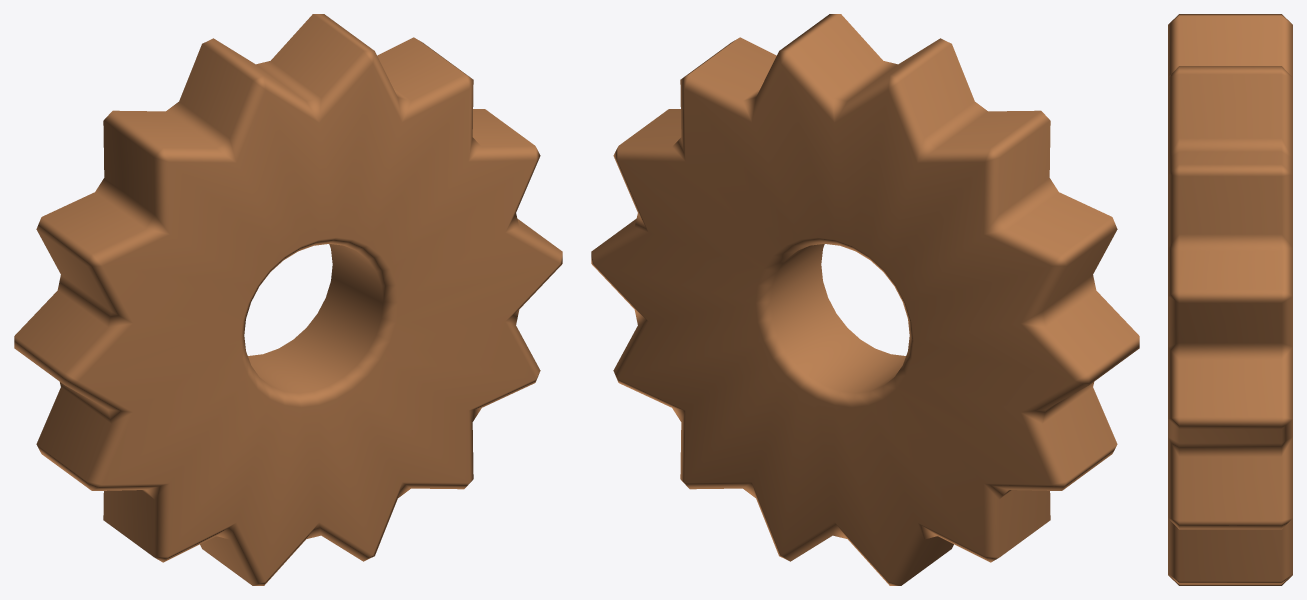
Rendered from Gear.fbx.
The picture shows the model from 3 angles, left to right: view 1: azimuth 30°, elevation 25°; view 2: azimuth 150°, elevation 25°; view 3: azimuth 270°, elevation 25°; orthographic projection.
Parts seen in each view (by area): view 1: SM_Gear_SmallMeshed_B; view 2: SM_Gear_SmallMeshed_B; view 3: SM_Gear_SmallMeshed_B.
Boxes of the visible parts, left/top/right/bottom form: SM_Gear_SmallMeshed_B: left=14, top=14, right=562, bottom=585; SM_Gear_SmallMeshed_B: left=591, top=14, right=1139, bottom=585; SM_Gear_SmallMeshed_B: left=1168, top=14, right=1292, bottom=585.
Bounding box in the file's own units: 46.58 × 45.65 × 10.
